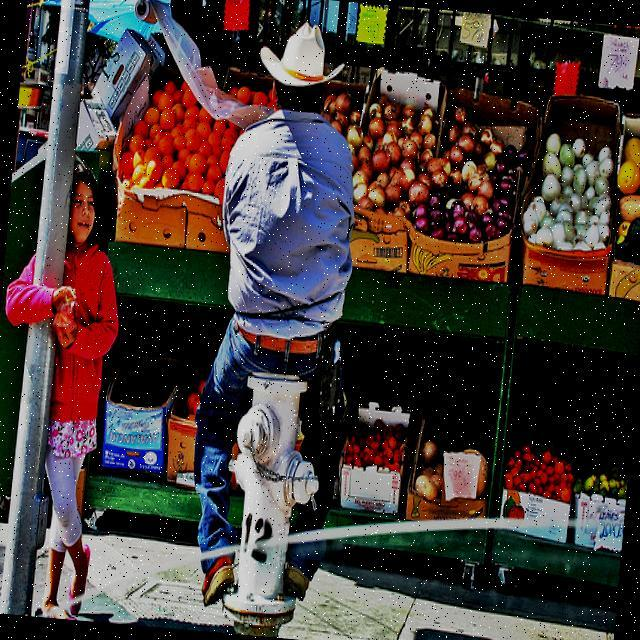fire_hydrant: (215, 368, 328, 628)
